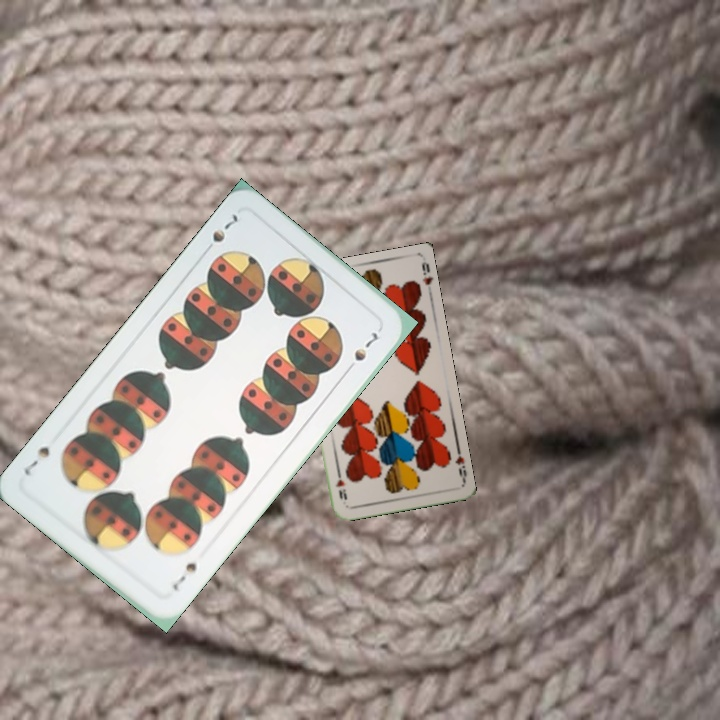H9: (451, 443, 469, 484)
S7: (199, 209, 241, 257), (168, 558, 200, 594)
